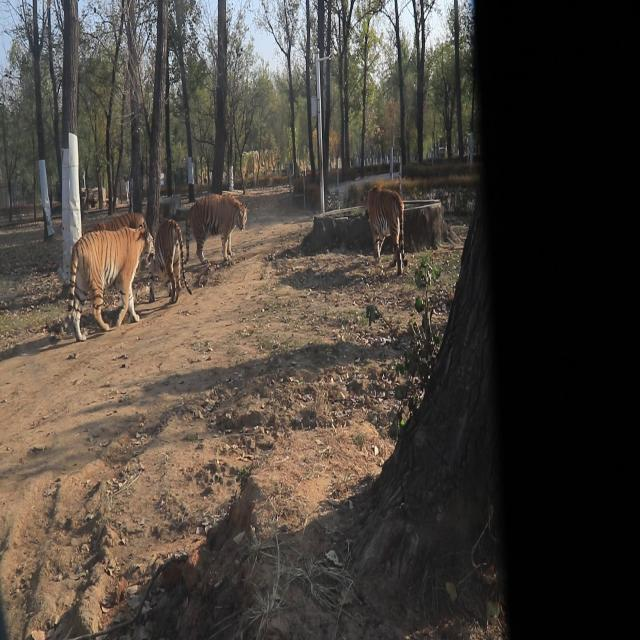Tiger: (49, 220, 156, 335), (185, 190, 256, 264), (364, 180, 410, 272), (149, 213, 189, 310), (91, 202, 147, 231)
